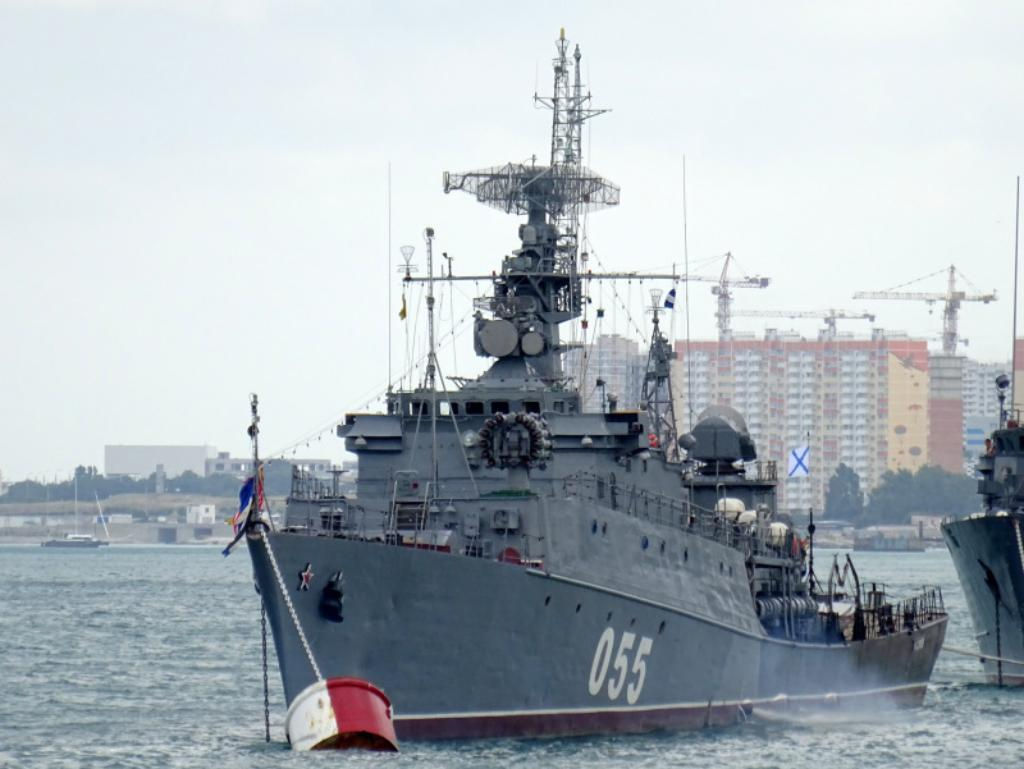PassengerShip: (40, 531, 110, 551)
